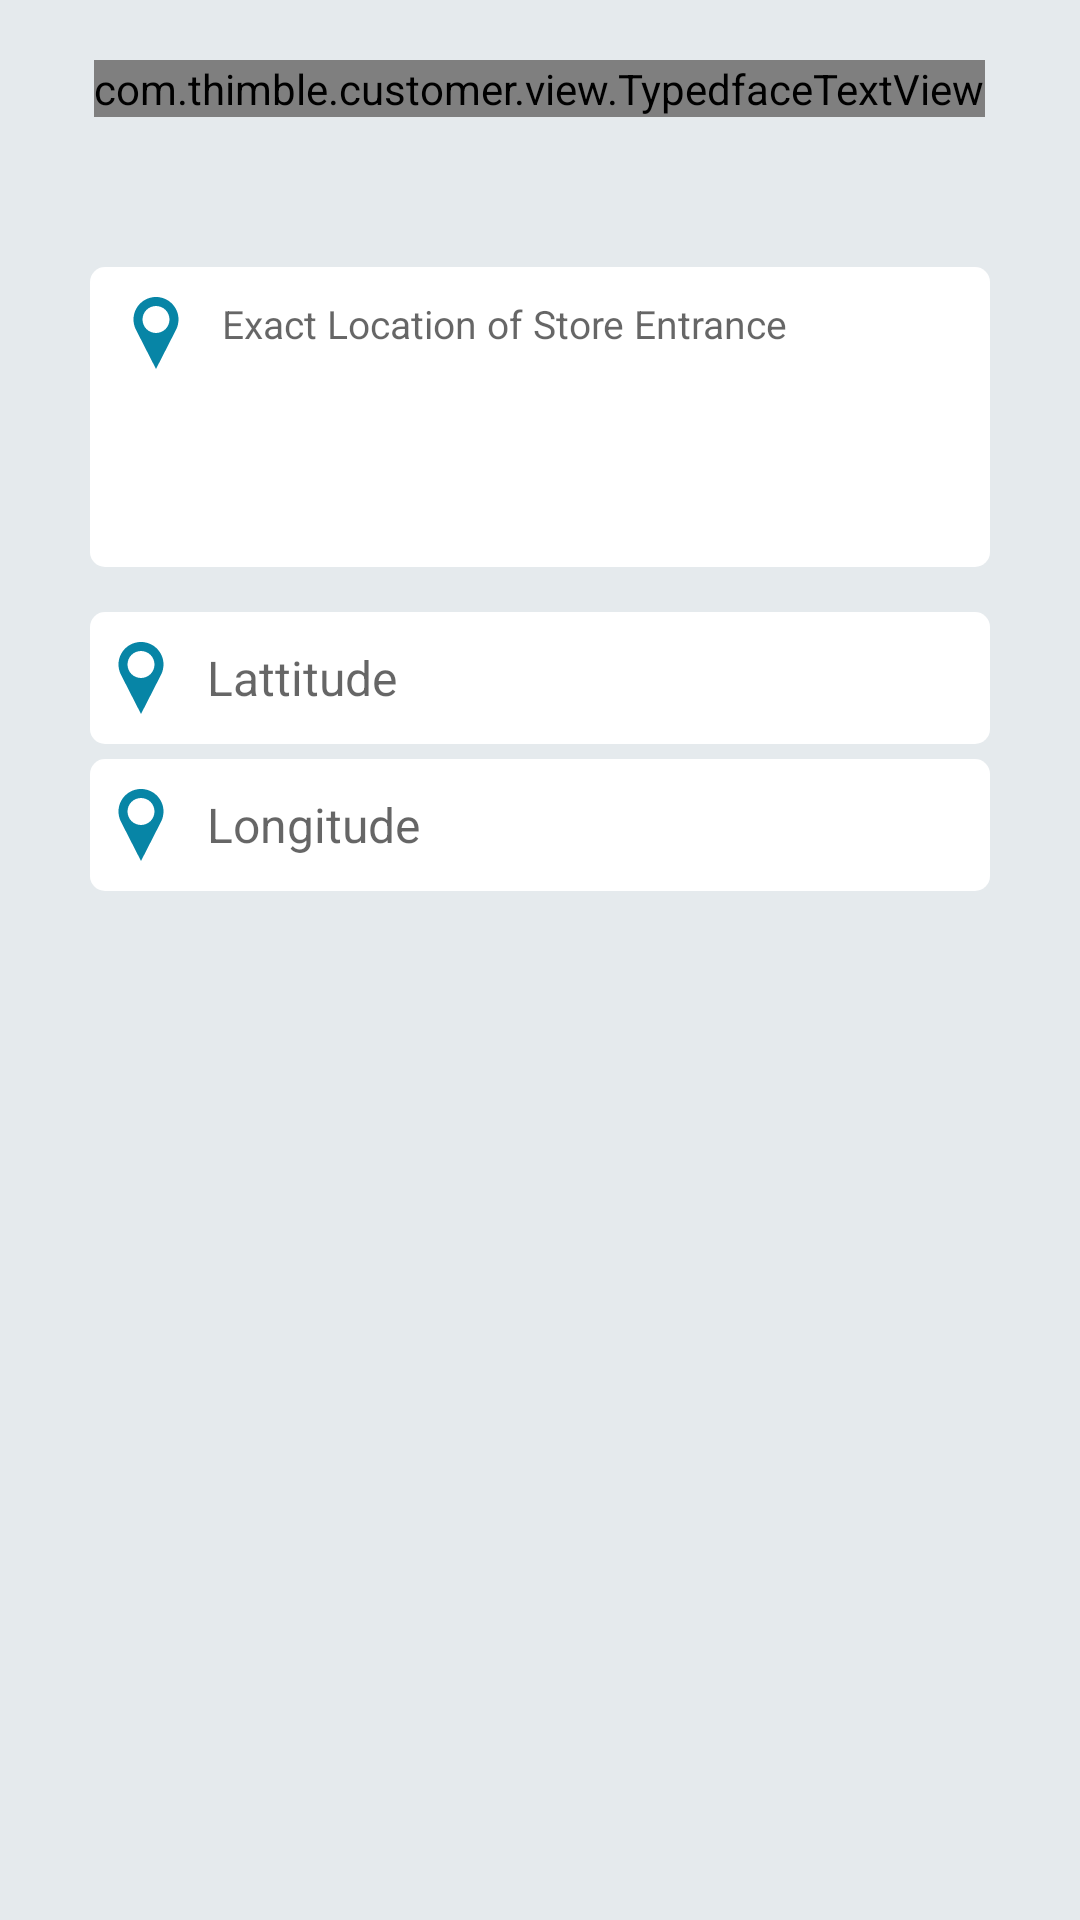

Named icons in this screenshot (1080px x 1920px) and their centers, [x,y]:
map marker: [156,333]
